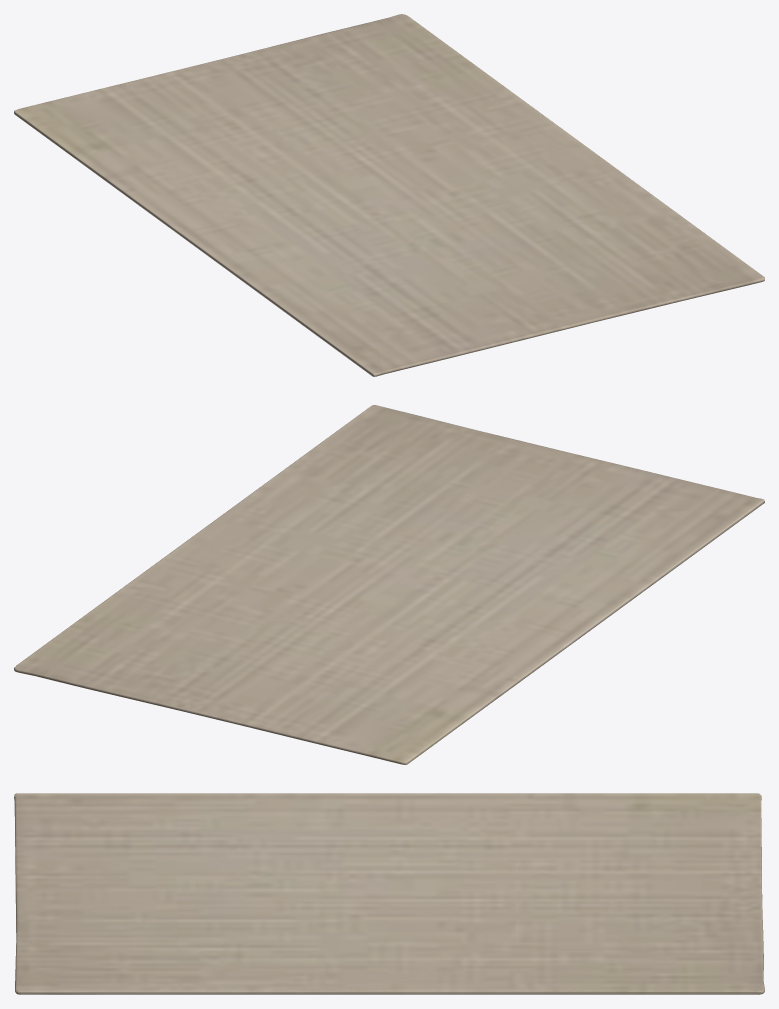
File: tiphede_dywan_tkany_na_pasko_40592825.glb
3 views of the same model, one above another, from view 1: azimuth 30°, elevation 25°; view 2: azimuth 150°, elevation 25°; view 3: azimuth 270°, elevation 25° (orthographic). The views are drawn at different scales.
Parts seen in each view (by area): view 1: tiphede_dywan_tkany_na_pasko_40592825; view 2: tiphede_dywan_tkany_na_pasko_40592825; view 3: tiphede_dywan_tkany_na_pasko_40592825.
Boxes of the visible parts, left/top/right/bottom form: tiphede_dywan_tkany_na_pasko_40592825: left=14, top=14, right=764, bottom=376; tiphede_dywan_tkany_na_pasko_40592825: left=14, top=405, right=764, bottom=764; tiphede_dywan_tkany_na_pasko_40592825: left=14, top=793, right=764, bottom=994.
Size of the model in its own units: 0.5 by 0.0045 by 0.7994.
Materials: 1 (1 with a texture image).
